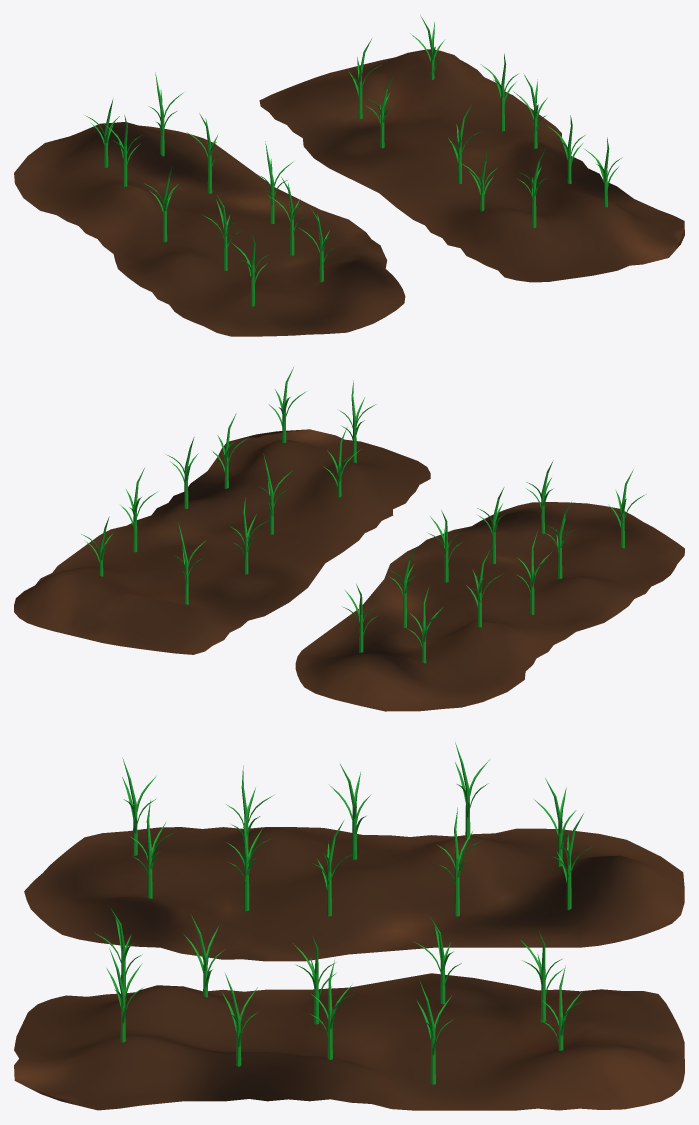
The model's file is Garlic2.fbx.
3 renders of one model, top to bottom at view 1: azimuth 30°, elevation 25°; view 2: azimuth 150°, elevation 25°; view 3: azimuth 270°, elevation 25°, orthographic. The views are drawn at different scales.
Visible parts, largest first — view 1: 2; view 2: 2; view 3: 2.
Boxes of the visible parts, bbox=[...] form: 2: bbox=[14, 15, 684, 336]; 2: bbox=[14, 367, 684, 711]; 2: bbox=[14, 742, 684, 1110].
Bounding box in the file's own units: 174 × 35.95 × 175.
